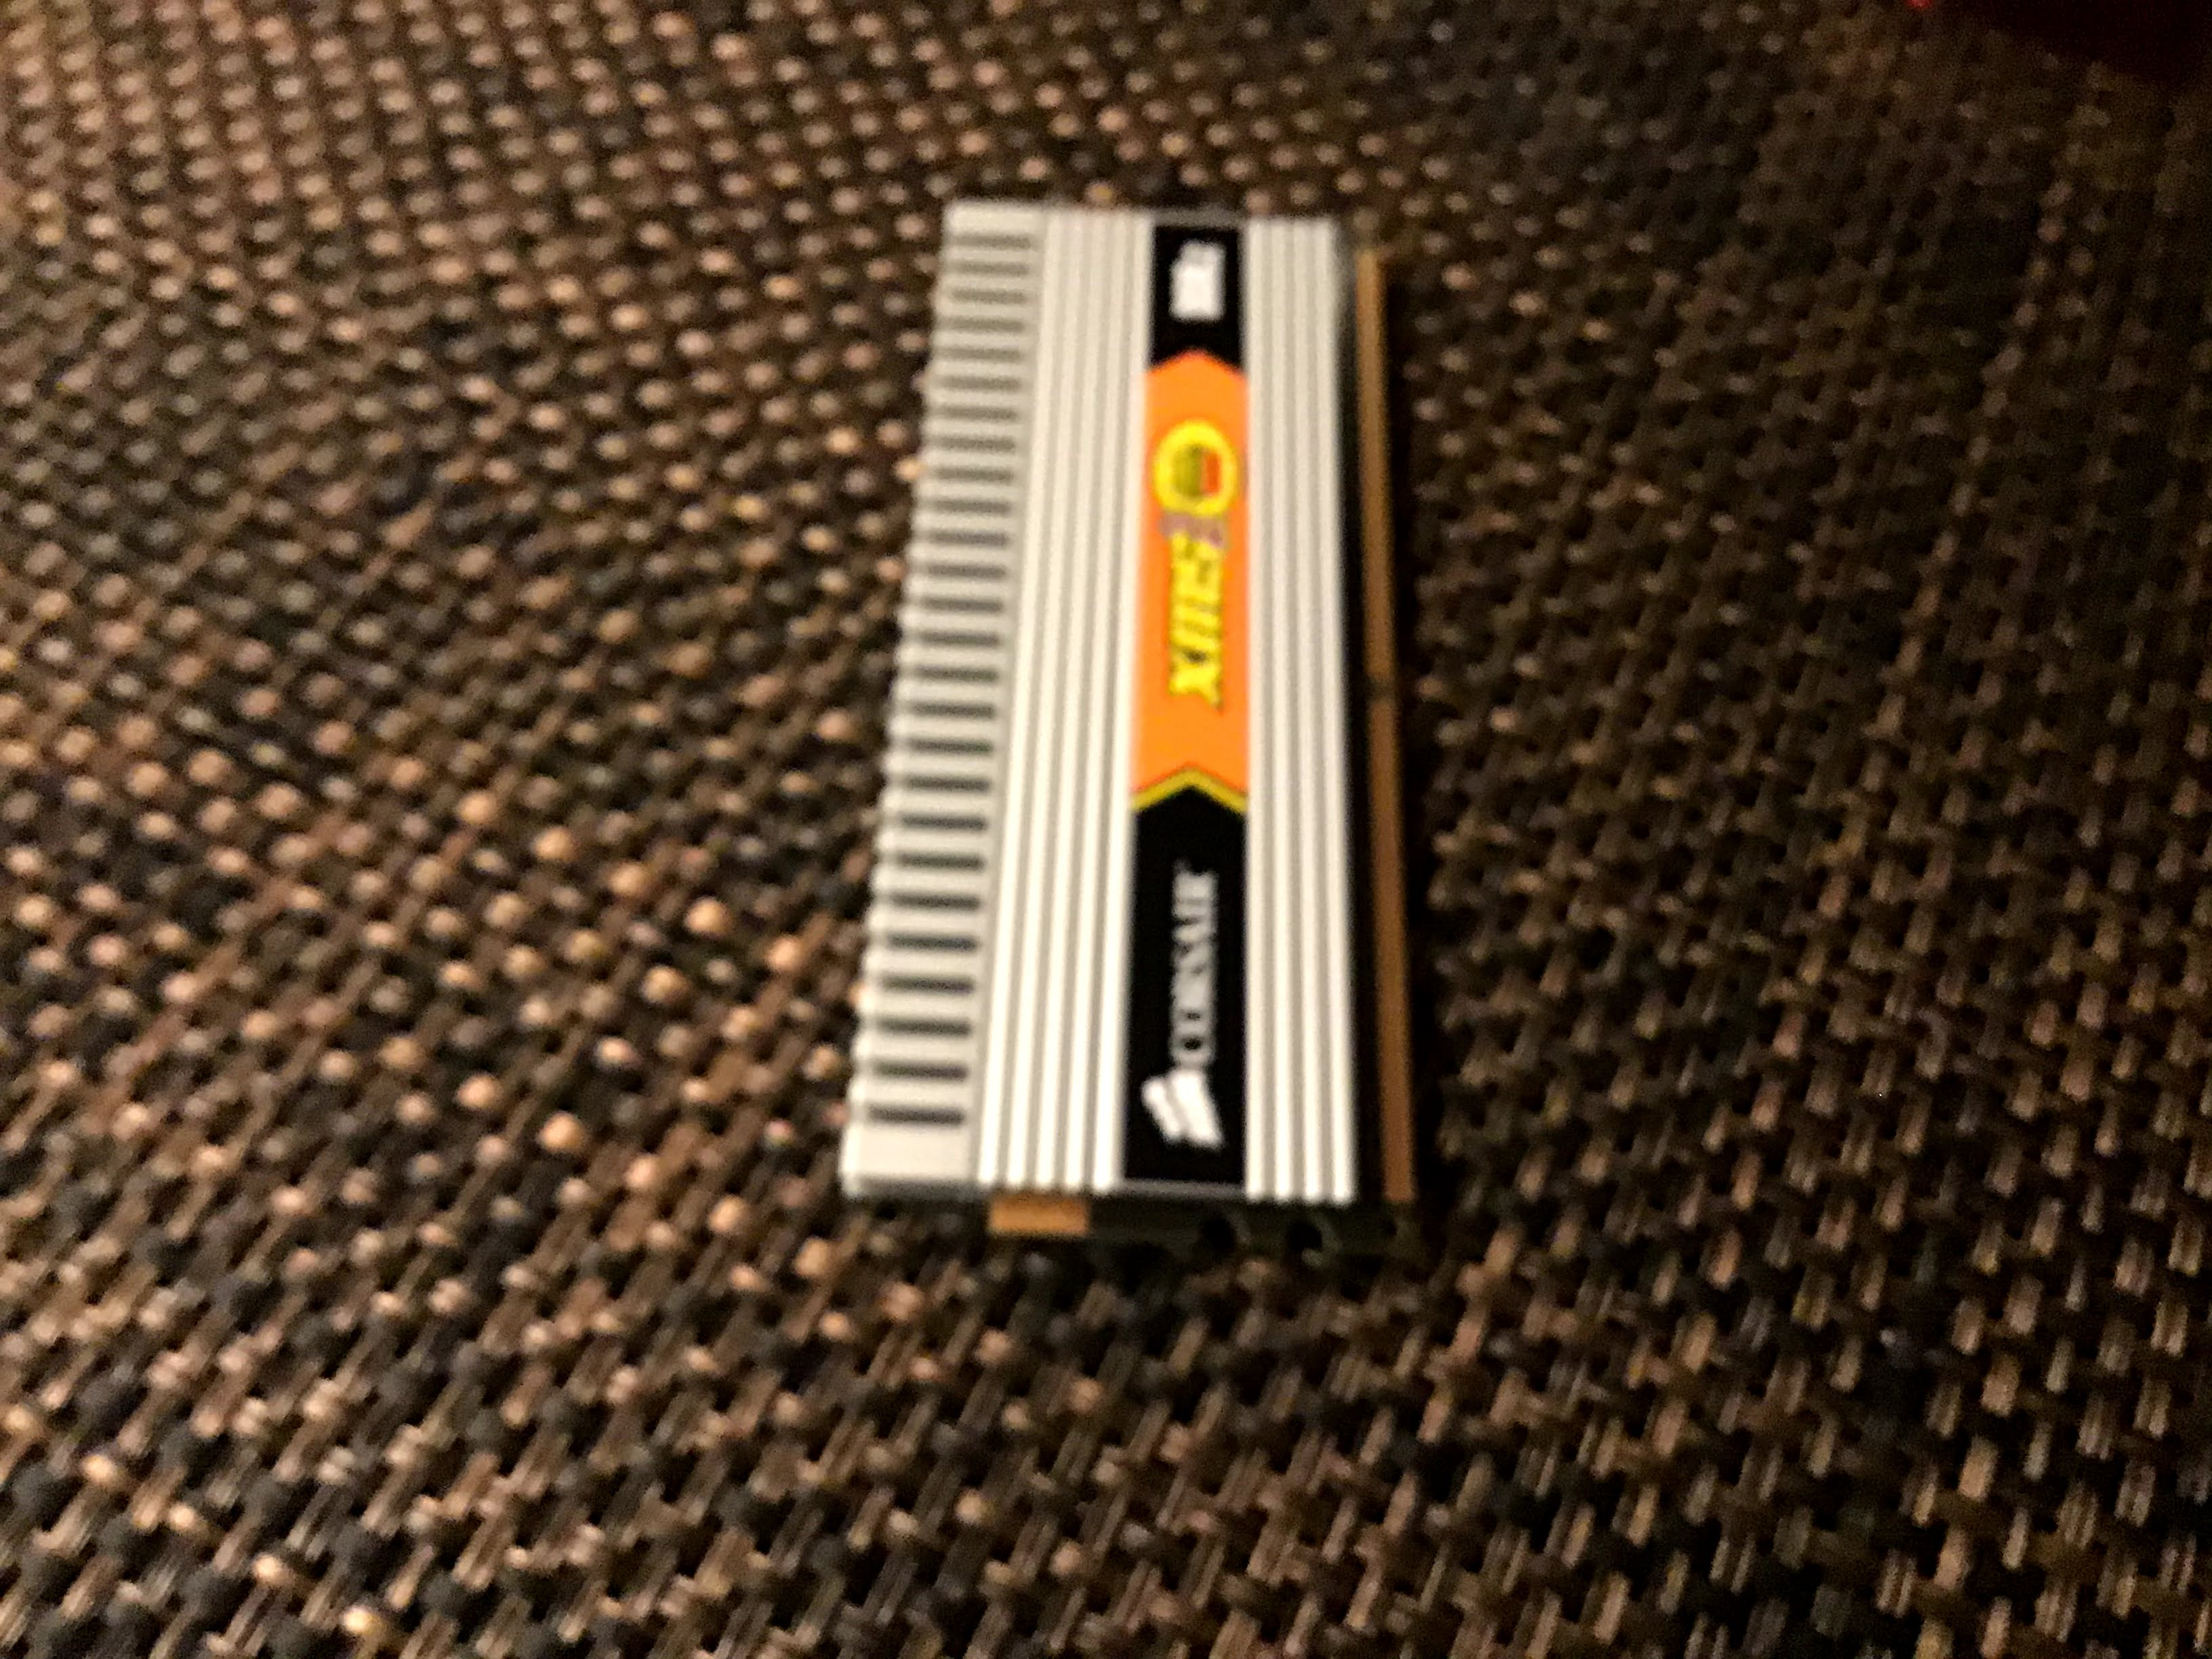Space-debris-medium: (831, 139, 1446, 1276)
